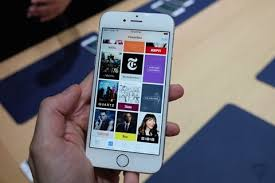iphone: (83, 8, 175, 166)
iphone6: (82, 9, 174, 167)
